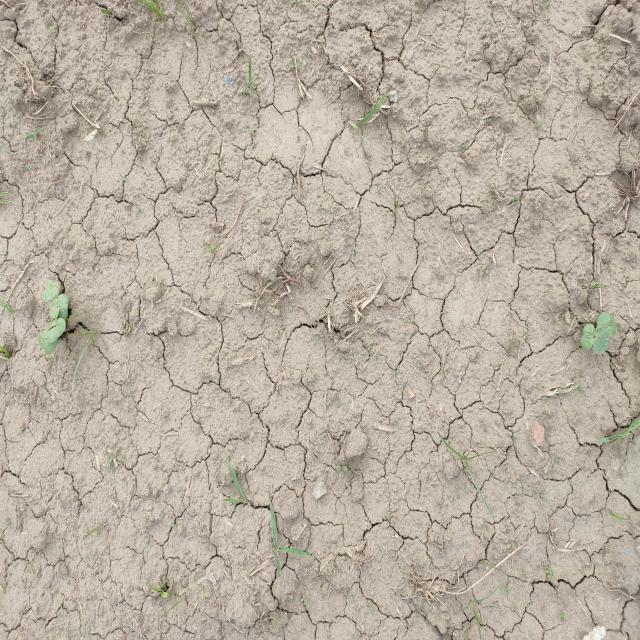seedling: (46, 318, 66, 344), (593, 325, 608, 354), (597, 312, 611, 340), (580, 324, 595, 350), (39, 334, 58, 354), (57, 294, 69, 320), (43, 287, 59, 302), (48, 308, 59, 329), (608, 314, 617, 335), (50, 298, 58, 319), (45, 281, 59, 289)
